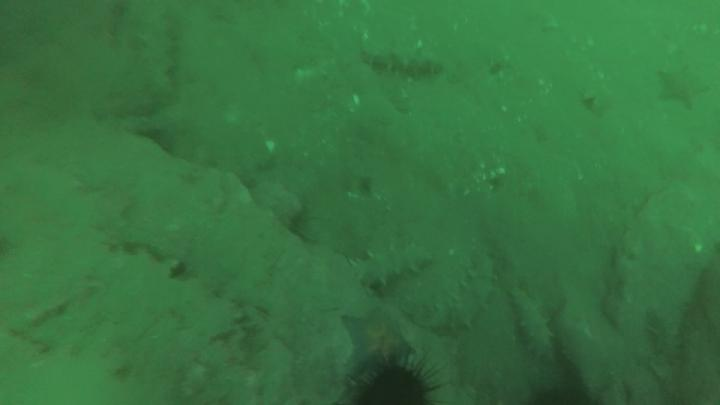echinus: (335, 346, 451, 405)
holothurian: (339, 237, 443, 285), (506, 282, 560, 366), (646, 304, 694, 391), (134, 10, 180, 96), (359, 43, 448, 82)
starfish: (340, 301, 421, 374), (655, 61, 714, 113)
